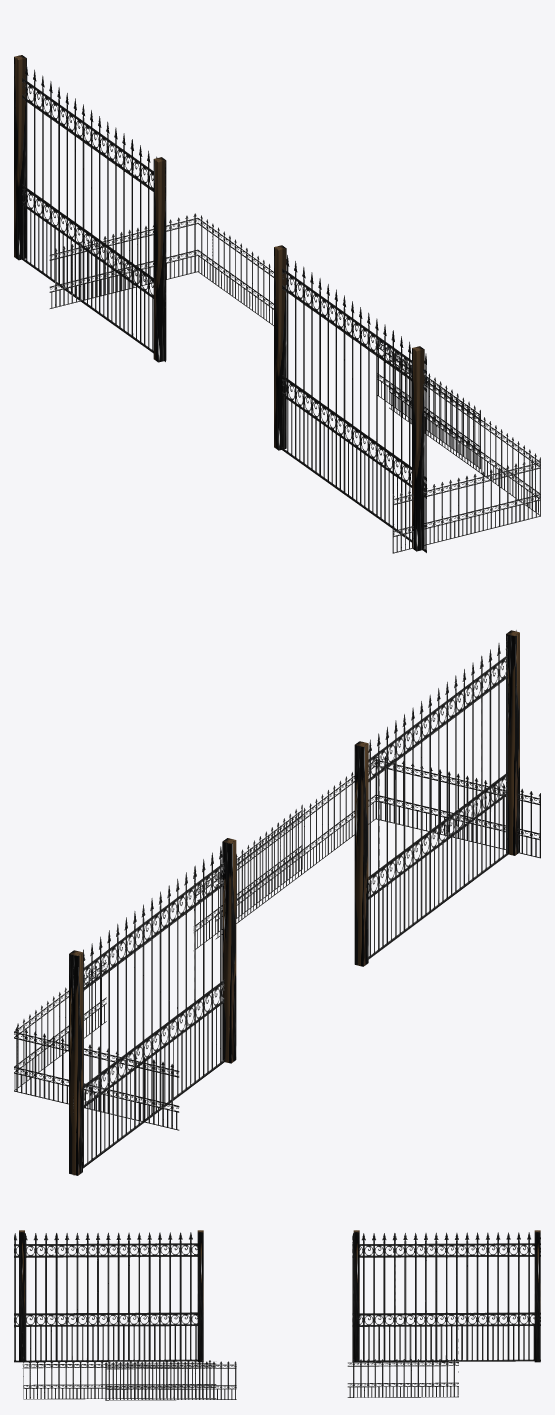
File: main_gate.glb
3 renders of one model, top to bottom at view 1: azimuth 30°, elevation 25°; view 2: azimuth 150°, elevation 25°; view 3: azimuth 270°, elevation 25°, orthographic. The views are drawn at different scales.
Visible parts, largest first — view 1: fens main; view 2: fens main; view 3: fens main.
Boxes of the visible parts, x1,y1,x2,y2 form: fens main: (14, 55, 540, 553); fens main: (14, 630, 540, 1175); fens main: (14, 1230, 540, 1400).
Size of what is drawn, in the model's own units: 5.08 by 7.37 by 22.45.
Materials: 2 (2 with a texture image).
